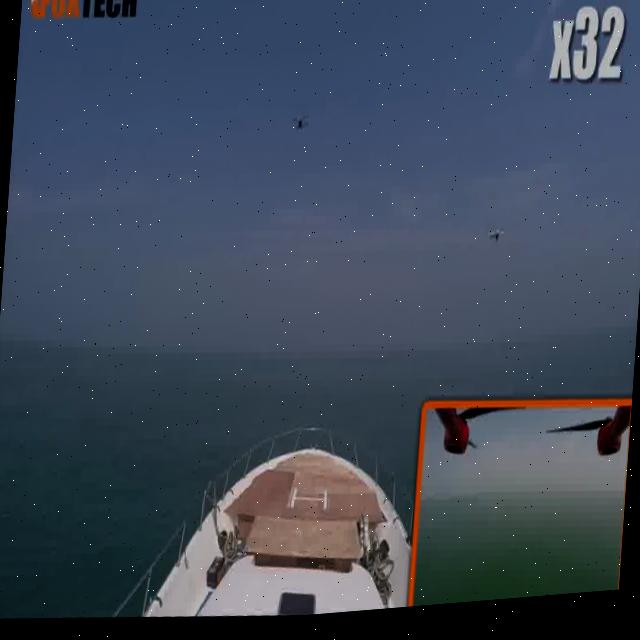drone: (280, 109, 316, 149), (482, 221, 512, 257)
